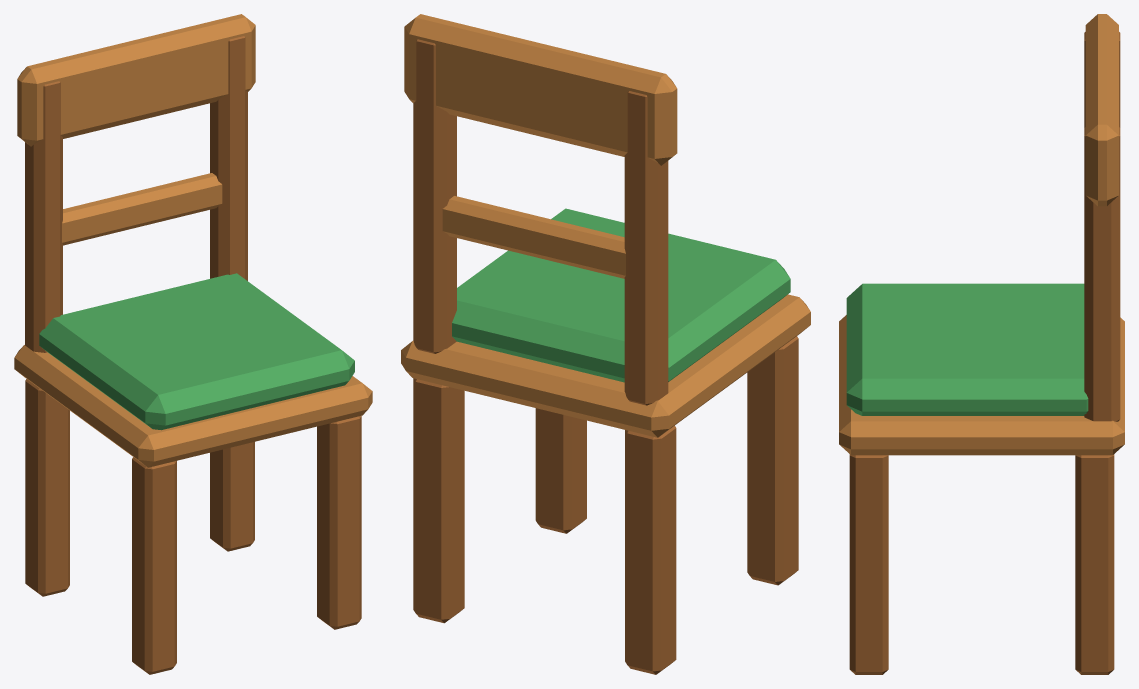
File: GreenDiningChair.fbx
3 views of the same model, side by side, from view 1: azimuth 30°, elevation 25°; view 2: azimuth 150°, elevation 25°; view 3: azimuth 270°, elevation 25° (orthographic). The views are drawn at different scales.
Visible parts, largest first — view 1: GreenDiningChair; view 2: GreenDiningChair; view 3: GreenDiningChair.
Part boxes in pixels (box(x1,y1,x2,y2)): GreenDiningChair: box(14, 14, 372, 674); GreenDiningChair: box(401, 14, 810, 674); GreenDiningChair: box(839, 14, 1124, 674).
Bounding box in the file's own units: 1.9 × 4.05 × 1.9.
1 material, 1 textured.
